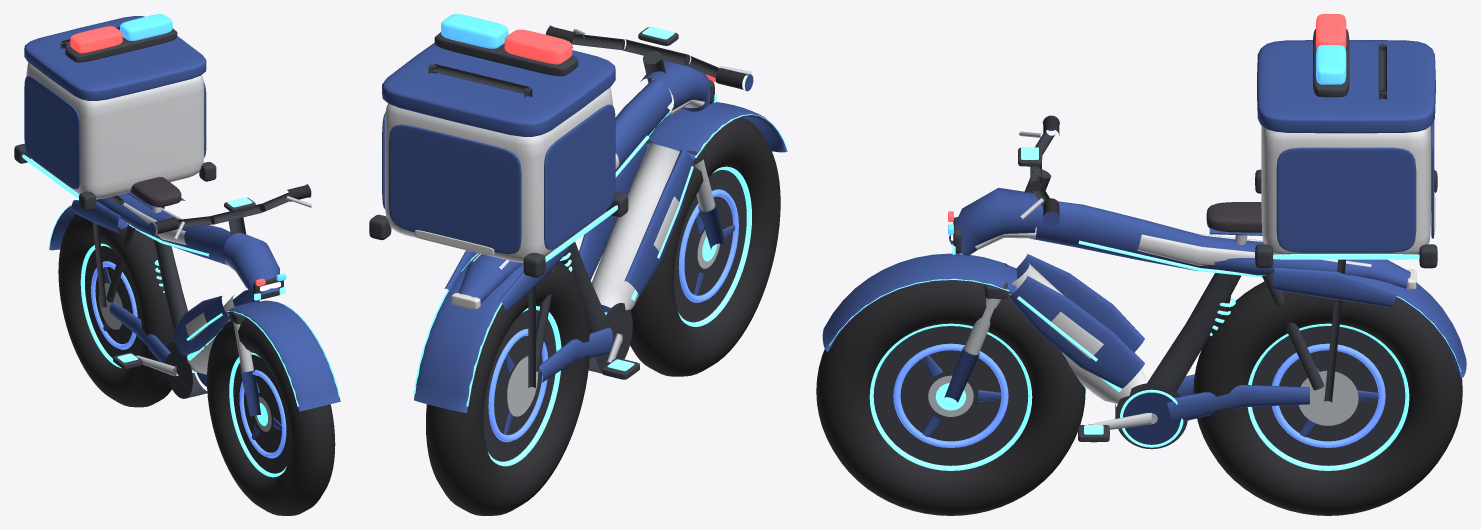
File: ebike-police.glb
3 renders of one model, left to right at view 1: azimuth 30°, elevation 25°; view 2: azimuth 150°, elevation 25°; view 3: azimuth 270°, elevation 25°, orthographic. The views are drawn at different scales.
Parts seen in each view (by area): view 1: Frame, Front wheel, Rear wheel, Light bar base, Light bar red, Light bar blue, Crank; view 2: Frame, Rear wheel, Front wheel, Light bar base, Light bar red, Light bar blue, Crank; view 3: Frame, Front wheel, Rear wheel, Crank, Light bar blue, Light bar red, Light bar base.
Boxes of the visible parts, x1,y1,x2,y2 form: Frame: (14,16,340,416); Front wheel: (207,317,335,515); Rear wheel: (58,214,174,407); Light bar base: (65,28,177,62); Light bar red: (70,26,122,53); Light bar blue: (120,14,172,40); Crank: (113,352,193,376); Frame: (369,25,787,412); Rear wheel: (426,260,589,515); Front wheel: (630,117,780,376); Light bar base: (434,32,578,76); Light bar red: (504,29,572,64); Light bar blue: (441,14,508,48); Crank: (602,333,639,379); Frame: (822,40,1466,449); Front wheel: (816,280,1085,515); Rear wheel: (1193,281,1462,515); Crank: (1078,389,1183,447); Light bar blue: (1316,45,1346,84); Light bar red: (1316,14,1346,48); Light bar base: (1313,29,1349,97).
Bounding box in the file's own units: 0.762 × 1.71 × 2.14.
